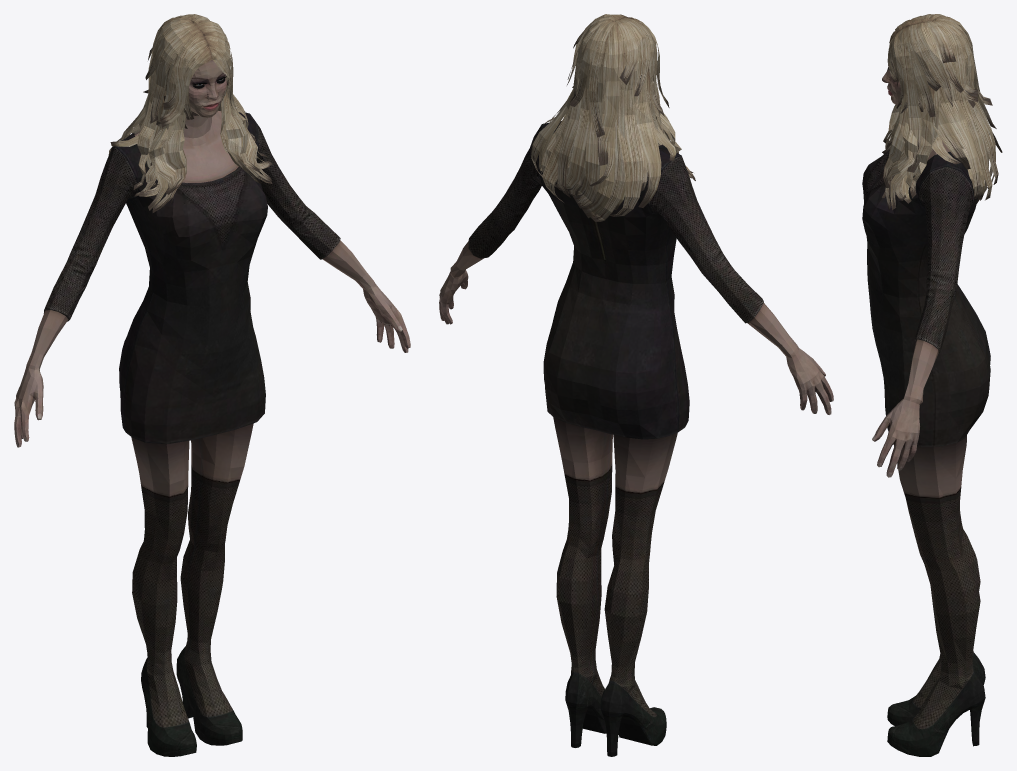
Rendered from dancer07.obj.
3 views of the same model, side by side, from view 1: azimuth 30°, elevation 25°; view 2: azimuth 150°, elevation 25°; view 3: azimuth 270°, elevation 25° (orthographic).
Parts seen in each view (by area): view 1: rdmobj01.001; view 2: rdmobj01.001; view 3: rdmobj01.001.
Boxes of the visible parts, <box> form: rdmobj01.001: <box>14,14,410,756</box>; rdmobj01.001: <box>439,14,833,756</box>; rdmobj01.001: <box>862,14,1002,756</box>.
Bounding box in the file's own units: 3.13 × 5.51 × 0.9761.
2 materials, 2 textured.
